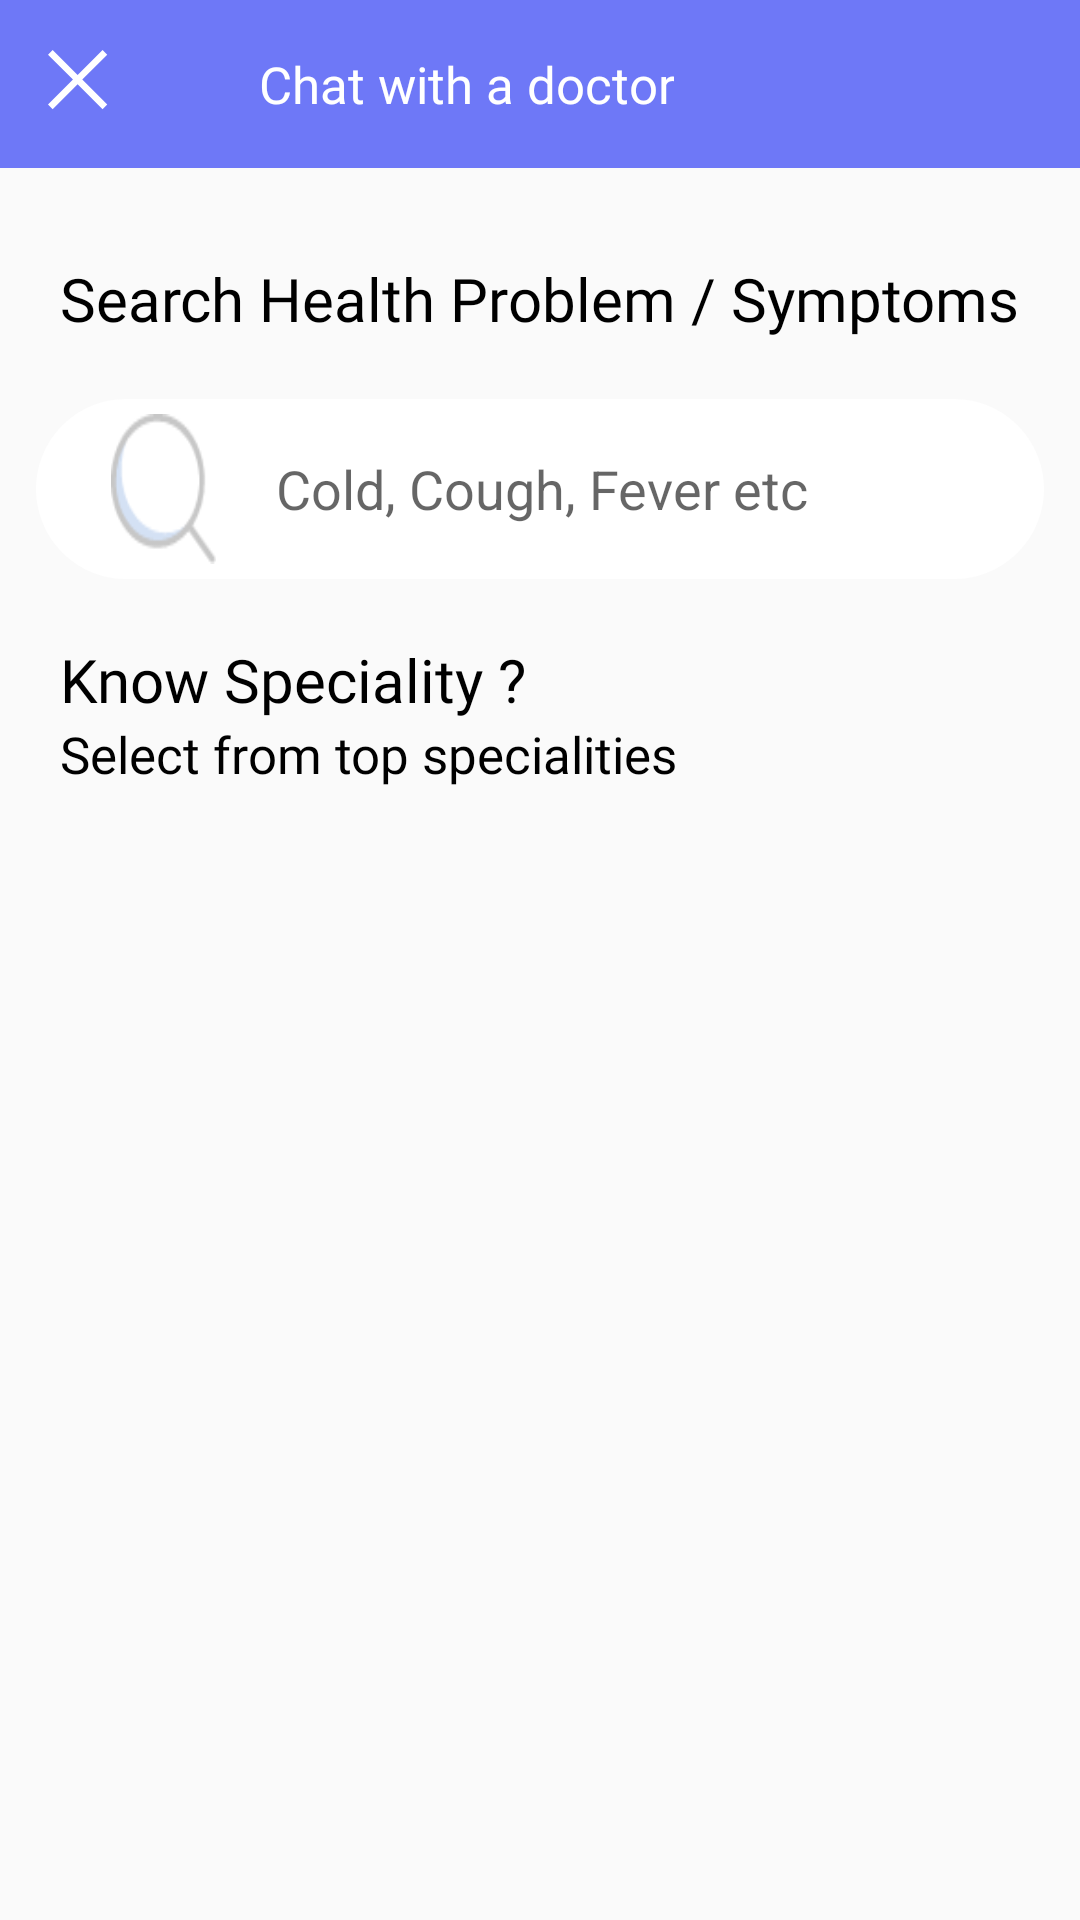

Locate icon controls on the screen. Image size 1080 × 1920, boxes as (x1,y1,x2,y2).
cross: (48,50,107,109)
